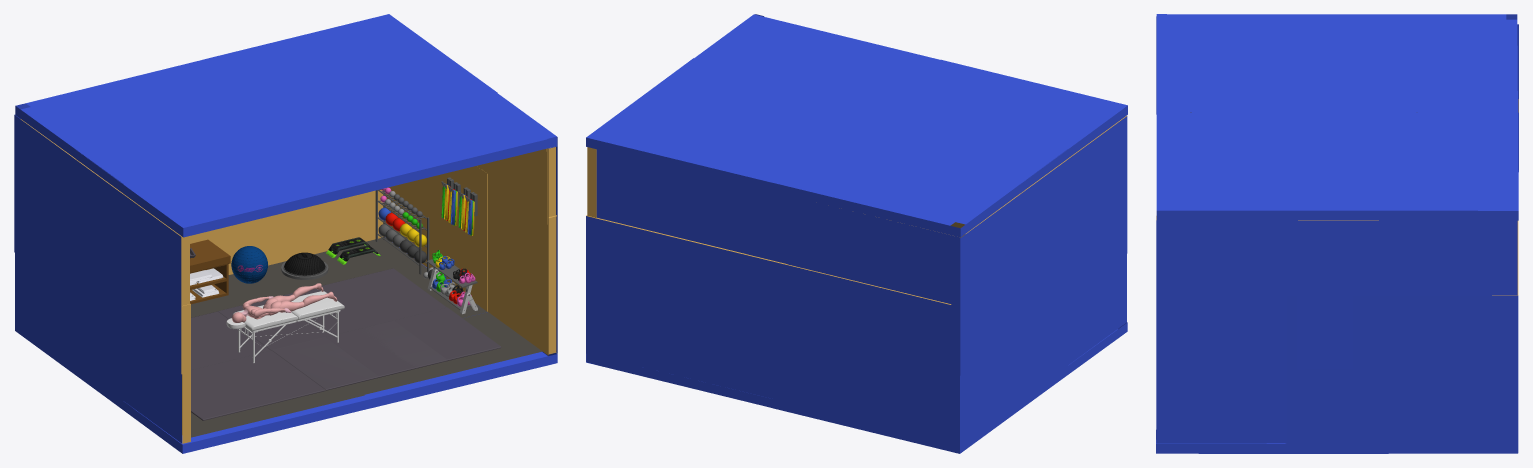
The model's file is room09-optimizado.glb.
3 views of the same model, side by side, from view 1: azimuth 30°, elevation 25°; view 2: azimuth 150°, elevation 25°; view 3: azimuth 270°, elevation 25° (orthographic). The views are drawn at different scales.
Visible parts, largest first — view 1: model_0, model_2, Object_2, Cube.018, Cube.017_plaque_0, Cubo, Object_2.001, Liveup bosu ball_Liveup bosu ball ball_0, Cube.021, toallas; view 2: model_0; view 3: model_0.
Boxes of the visible parts, box(x1,y1,x2,y2) form: model_0: box(14, 14, 557, 453); model_2: box(190, 248, 501, 420); Object_2: box(226, 291, 344, 363); Cube.018: box(427, 250, 477, 314); Cube.017_plaque_0: box(375, 189, 429, 274); Cubo: box(232, 283, 337, 322); Object_2.001: box(231, 246, 267, 283); Liveup bosu ball_Liveup bosu ball ball_0: box(281, 252, 328, 279); Cube.021: box(441, 177, 460, 225); toallas: box(190, 268, 223, 300); model_0: box(586, 14, 1127, 453); model_0: box(1156, 14, 1518, 453).
Bounding box in the file's own units: 10.24 × 5.91 × 7.97.
Materials: 62 (12 with a texture image).
